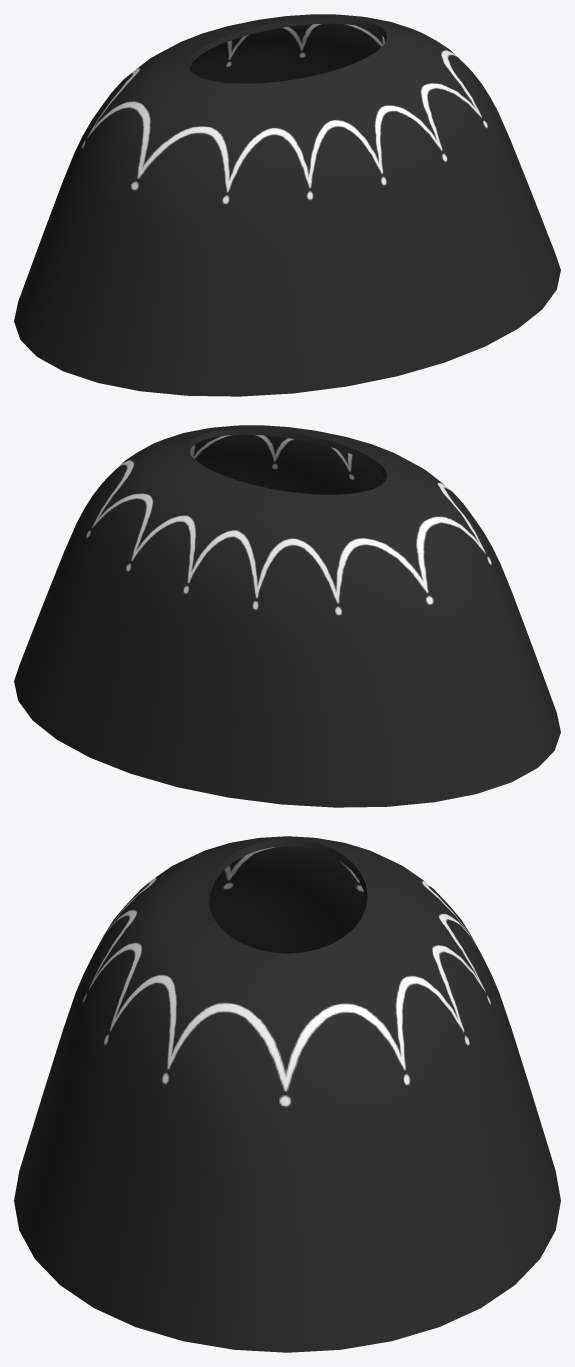
Rendered from doremy_dress_upper.glb.
The picture shows the model from 3 angles, top to bottom: view 1: azimuth 30°, elevation 25°; view 2: azimuth 150°, elevation 25°; view 3: azimuth 270°, elevation 25°; orthographic projection. The views are drawn at different scales.
Parts seen in each view (by area): view 1: doremy_dress_upper; view 2: doremy_dress_upper; view 3: doremy_dress_upper.
Part boxes in pixels (box(x1,y1,x2,y2)): doremy_dress_upper: box(14, 14, 560, 396); doremy_dress_upper: box(14, 425, 560, 807); doremy_dress_upper: box(14, 836, 560, 1352).
Size of the model in its own units: 0.9986 by 0.4698 by 0.7595.
1 material, 1 textured.
